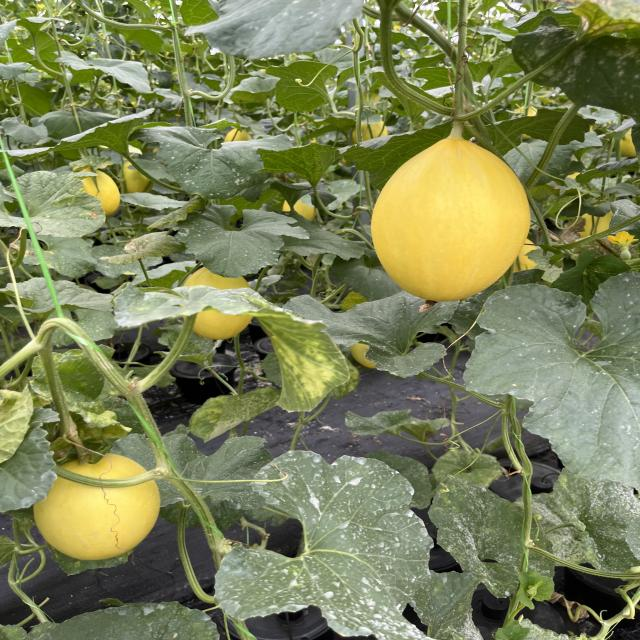CMV: (257, 140, 342, 176)
alternaria leaf blight: (222, 290, 350, 420), (501, 0, 640, 102), (194, 386, 279, 440), (104, 227, 179, 270)
downy mildew: (0, 172, 109, 250)
powdery mildew: (200, 444, 463, 640), (475, 275, 640, 485), (435, 478, 558, 598), (285, 293, 455, 378), (525, 471, 640, 573), (145, 125, 278, 196), (177, 208, 291, 274)
